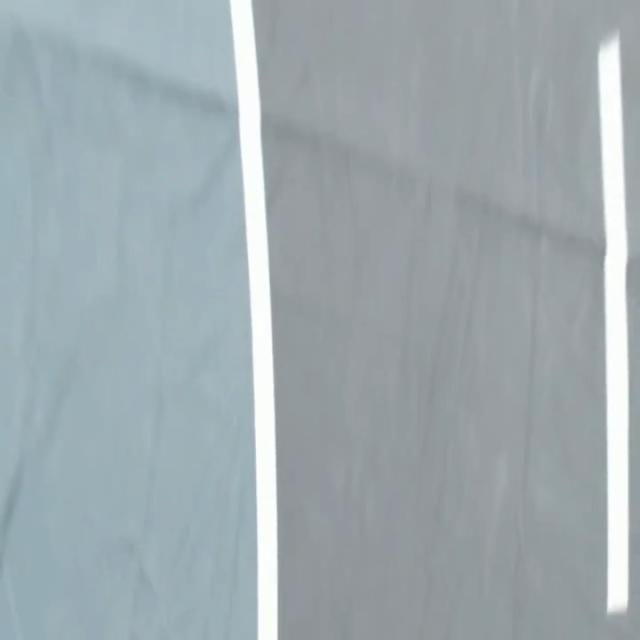center: (598, 33, 629, 615)
left: (229, 0, 277, 639)
